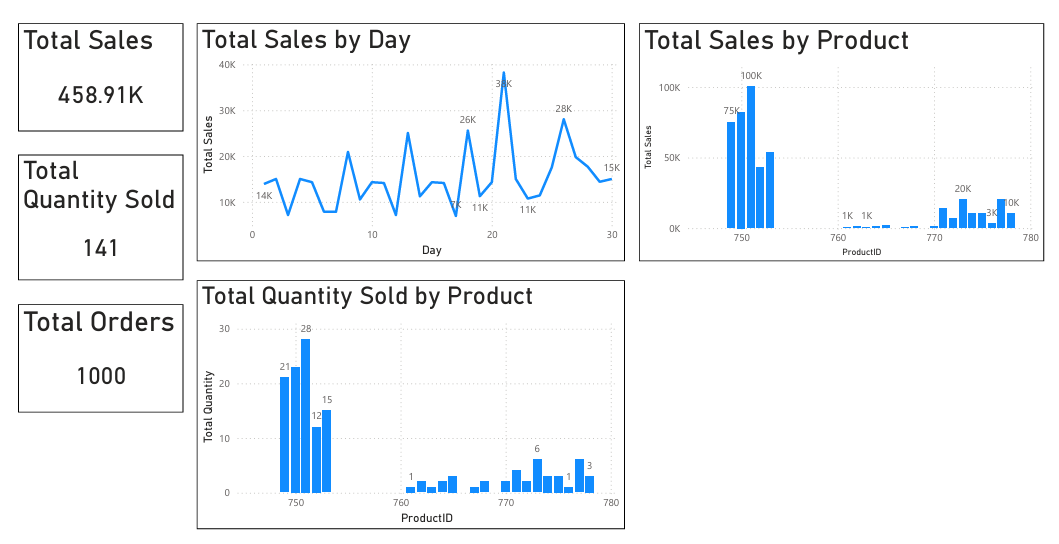

The dashboard page shown, as its layout file describes it:
{"tool":"powerbi","page":{"name":"Page 1","canvas":[1280,720],"ordinal":0},"visuals":[{"type":"card","title":"Total Sales","fields":{"Values":["Order Details.Total Sales"]},"box":[15.7,33.1,200.5,130.8],"z":0},{"type":"card","title":"Total Quantity Sold","fields":{"Values":["Order Details.Total Quantity"]},"box":[15.7,191.8,200.5,151.7],"z":1},{"type":"card","title":"Total Orders","fields":{"Values":["Order Details.Total Orders"]},"box":[15.7,373.2,200.5,130.8],"z":2},{"type":"lineChart","fields":{"Category":["Order Details.OrderDate.Variation.Date Hierarchy.Year","Order Details.OrderDate.Variation.Date Hierarchy.Quarter","Order Details.OrderDate.Variation.Date Hierarchy.Month","Order Details.OrderDate.Variation.Date Hierarchy.Day"],"Y":["Order Details.Total Sales"]},"box":[231.9,33.1,517.9,287.7],"z":3},{"type":"clusteredColumnChart","title":"Total Sales by Product","fields":{"Category":["Order Details.ProductID"],"Y":["Order Details.Total Sales"]},"box":[767.3,33.1,490,287.7],"z":4},{"type":"columnChart","title":"Total Quantity Sold by Product","fields":{"Category":["Order Details.ProductID"],"Y":["Order Details.Total Quantity"]},"box":[231.9,343.5,517.9,301.7],"z":5}]}

Visuals, with their boxes on the page's 1280x720 design canvas (x1, y1, x2, y2). These are canvas units, not pixel positions in the 1059x544 screenshot, which may show the page scaled, cropped or inside an application window:
"Total Sales" card: bbox=(16, 33, 216, 164)
"Total Quantity Sold" card: bbox=(16, 192, 216, 344)
"Total Orders" card: bbox=(16, 373, 216, 504)
lineChart - Order Details.OrderDate.Variation.Date Hierarchy.Year x Order Details.OrderDate.Variation.Date Hierarchy.Quarter: bbox=(232, 33, 750, 321)
"Total Sales by Product" clusteredColumnChart: bbox=(767, 33, 1257, 321)
"Total Quantity Sold by Product" columnChart: bbox=(232, 344, 750, 645)
